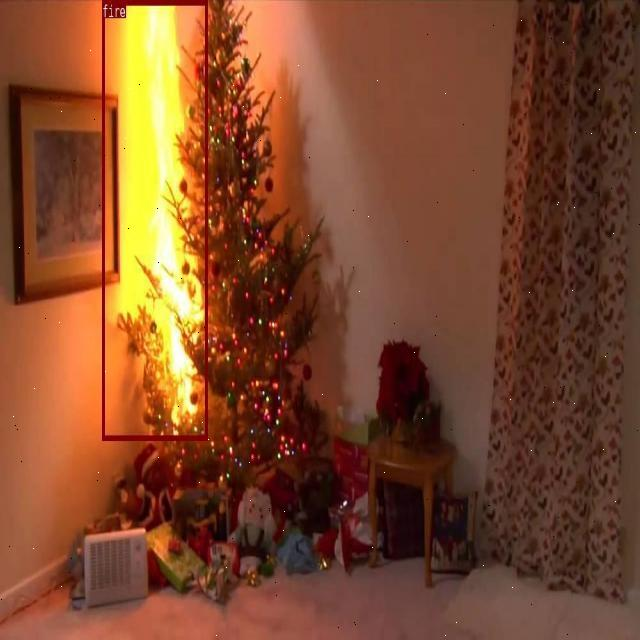fire: (101, 0, 207, 439)
